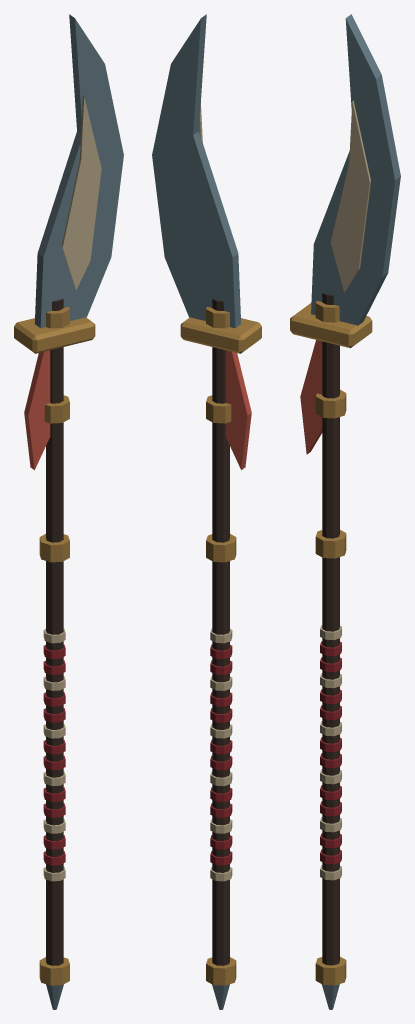
The model's file is polearm.glb.
3 views of the same model, side by side, from view 1: azimuth 30°, elevation 25°; view 2: azimuth 150°, elevation 25°; view 3: azimuth 330°, elevation 25° (orthographic).
Parts seen in each view (by area): view 1: Polearm; view 2: Polearm; view 3: Polearm.
Boxes of the visible parts, bbox=[...] form: Polearm: bbox=[14, 14, 123, 1009]; Polearm: bbox=[152, 14, 261, 1009]; Polearm: bbox=[290, 14, 400, 1009].
Bounding box in the file's own units: 0.31 × 2.99 × 0.12.
